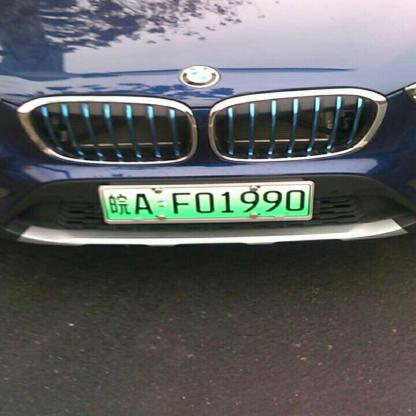lp: (103, 184, 310, 219)
